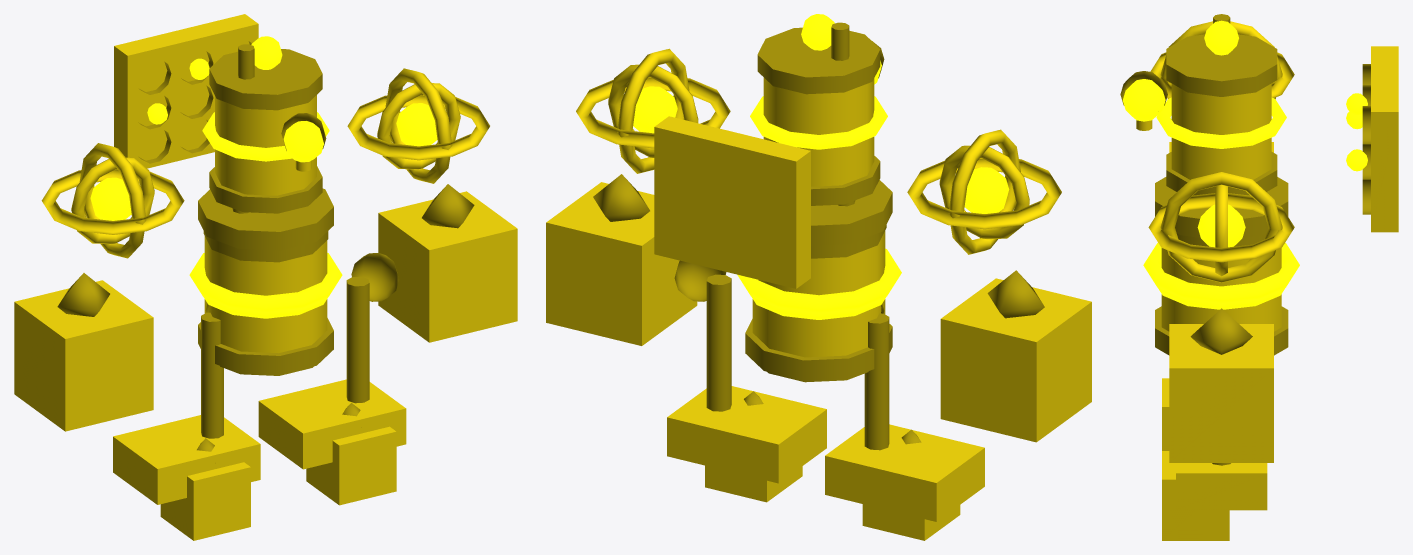
Rendered from golem_111.glb.
The picture shows the model from 3 angles, left to right: view 1: azimuth 30°, elevation 25°; view 2: azimuth 150°, elevation 25°; view 3: azimuth 270°, elevation 25°; orthographic projection. The views are drawn at different scales.
Parts seen in each view (by area): view 1: Body, Detail, Glow; view 2: Body, Detail, Glow; view 3: Body, Detail, Glow.
Part boxes in pixels (x1,y1,x2,y2): Body: (14,14,517,540); Detail: (57,41,474,463); Glow: (90,36,437,318); Body: (546,48,1091,540); Detail: (593,22,1044,450); Glow: (633,14,1009,319); Body: (1136,21,1398,540); Detail: (1120,14,1370,465); Glow: (1122,20,1367,309).
Bounding box in the file's own units: 1.13 × 1.09 × 0.5882.
